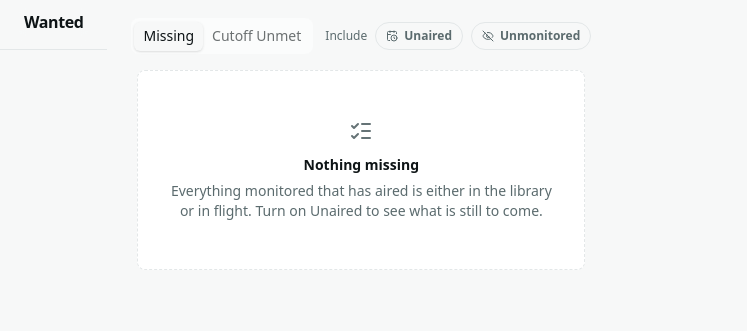
it: offers to keep looking when an empty cutoff results page still has a cursor
Click the tab "Cutoff Unmet" at (257, 36), box left=203, top=22, right=310, bottom=50
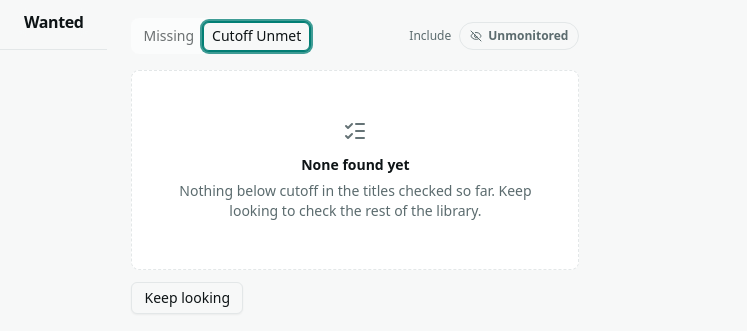
Expected: the heading "None found yet" is shown, left=301, top=155, right=410, bottom=175
Click the button "Keep looking" at (187, 298), box left=132, top=282, right=243, bottom=314
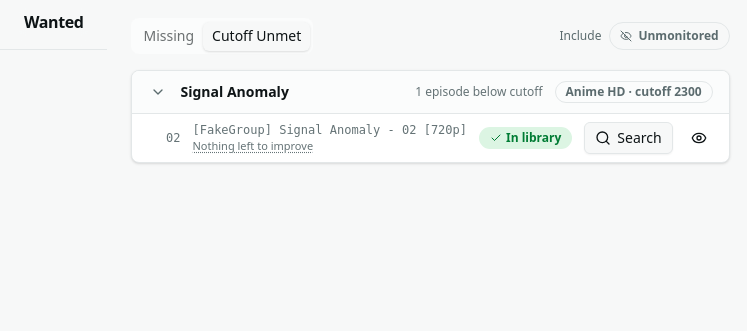
Expected: the text "[FakeGroup] Signal Anomaly - 02 [720p]" is shown, left=192, top=122, right=467, bottom=138
